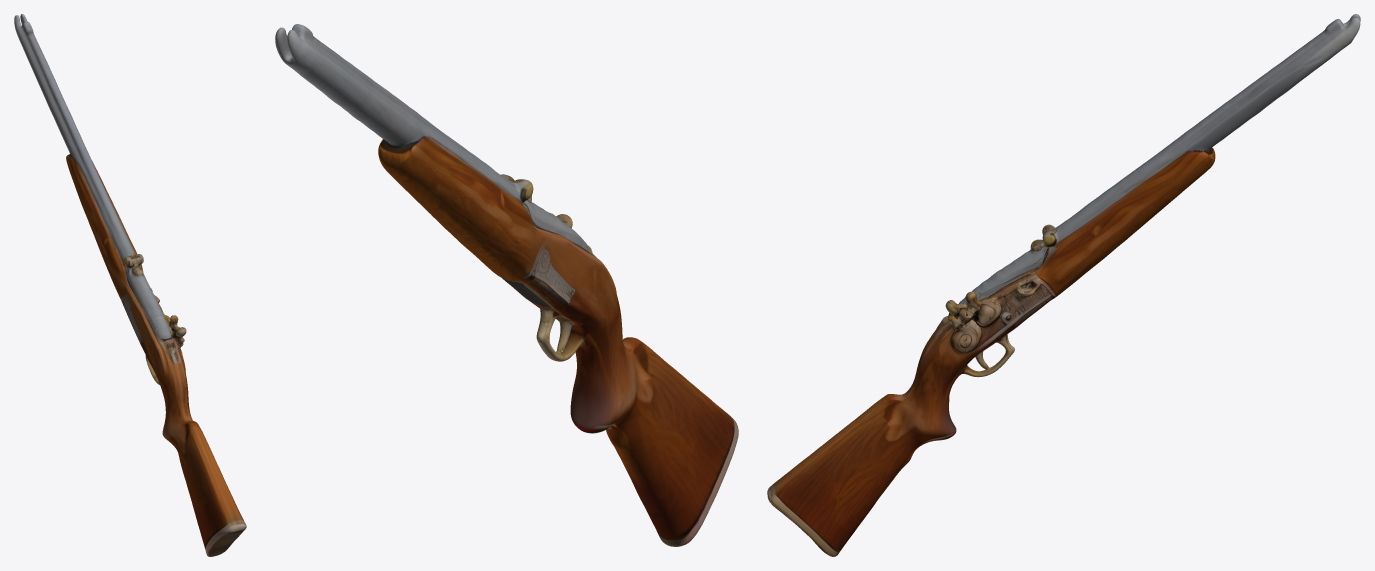
Rendered from musket.glb.
3 views of the same model, side by side, from view 1: azimuth 30°, elevation 25°; view 2: azimuth 150°, elevation 25°; view 3: azimuth 270°, elevation 25° (orthographic). The views are drawn at different scales.
Visible parts, largest first — view 1: tripo_node_f78bdbaa-80e7-4739-af50-3a8a8d7a64c7; view 2: tripo_node_f78bdbaa-80e7-4739-af50-3a8a8d7a64c7; view 3: tripo_node_f78bdbaa-80e7-4739-af50-3a8a8d7a64c7.
Part boxes in pixels (x1,y1,x2,y2): tripo_node_f78bdbaa-80e7-4739-af50-3a8a8d7a64c7: [14, 14, 246, 556]; tripo_node_f78bdbaa-80e7-4739-af50-3a8a8d7a64c7: [275, 24, 738, 546]; tripo_node_f78bdbaa-80e7-4739-af50-3a8a8d7a64c7: [767, 14, 1360, 556].
Bounding box in the file's own units: 0.0742 × 0.9476 × 0.9456.
Materials: 1 (1 with a texture image).
